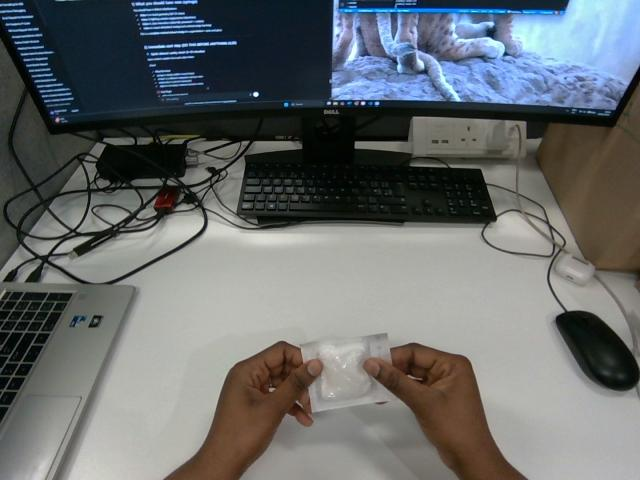gauze: (301, 334, 394, 411)
